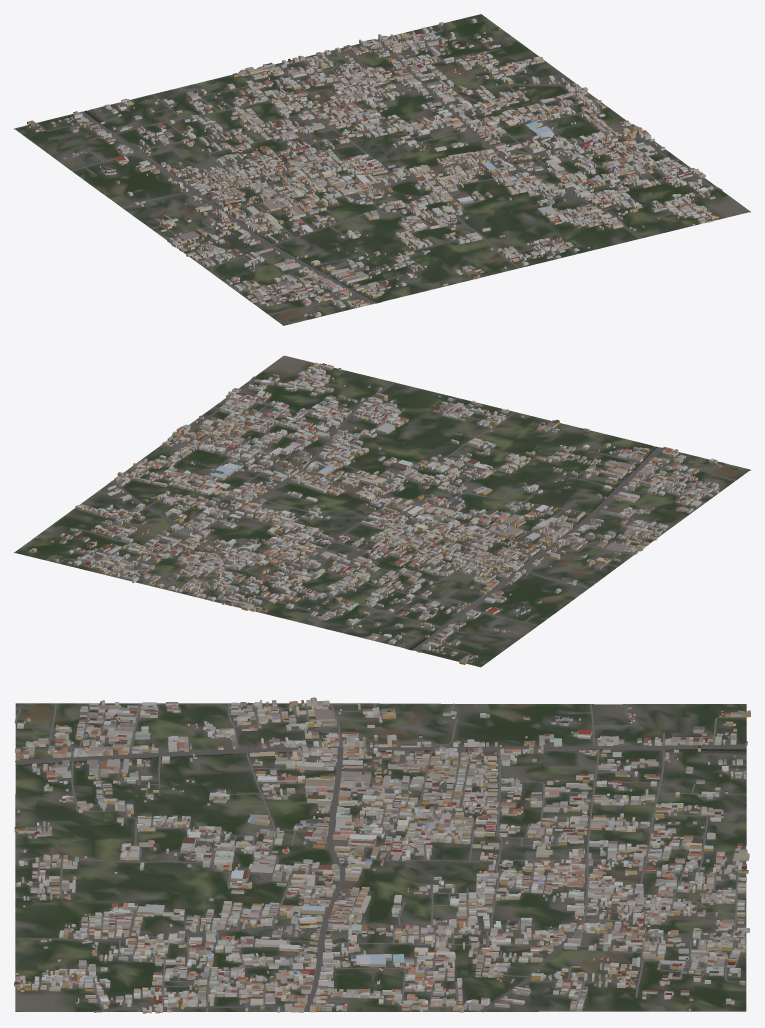
The picture shows the model from 3 angles, top to bottom: view 1: azimuth 30°, elevation 25°; view 2: azimuth 150°, elevation 25°; view 3: azimuth 270°, elevation 25°; orthographic projection. The views are drawn at different scales.
Visible parts, largest first — view 1: ground, buildings, roads; view 2: ground, buildings, roads; view 3: ground, buildings, roads.
Boxes of the visible parts, x1=… form: ground: x1=14, y1=14, x2=750, y2=325; buildings: x1=27, y1=18, x2=718, y2=316; roads: x1=42, y1=24, x2=722, y2=322; ground: x1=14, y1=355, x2=750, y2=667; buildings: x1=29, y1=362, x2=721, y2=664; roads: x1=58, y1=368, x2=740, y2=654; ground: x1=15, y1=703, x2=746, y2=1011; buildings: x1=14, y1=697, x2=750, y2=1013; roads: x1=14, y1=703, x2=746, y2=1012.
Size of the model in its own units: 1411 by 21.54 by 1412.
